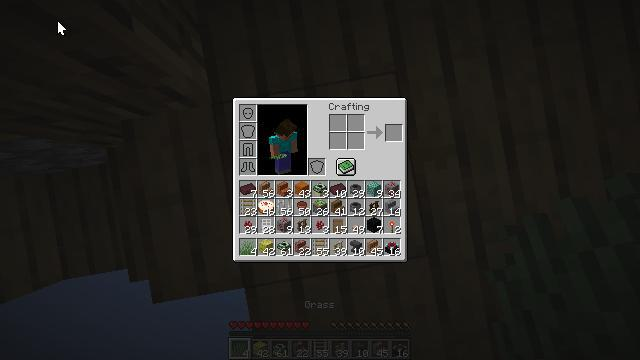cursor: (57, 20, 67, 36)
